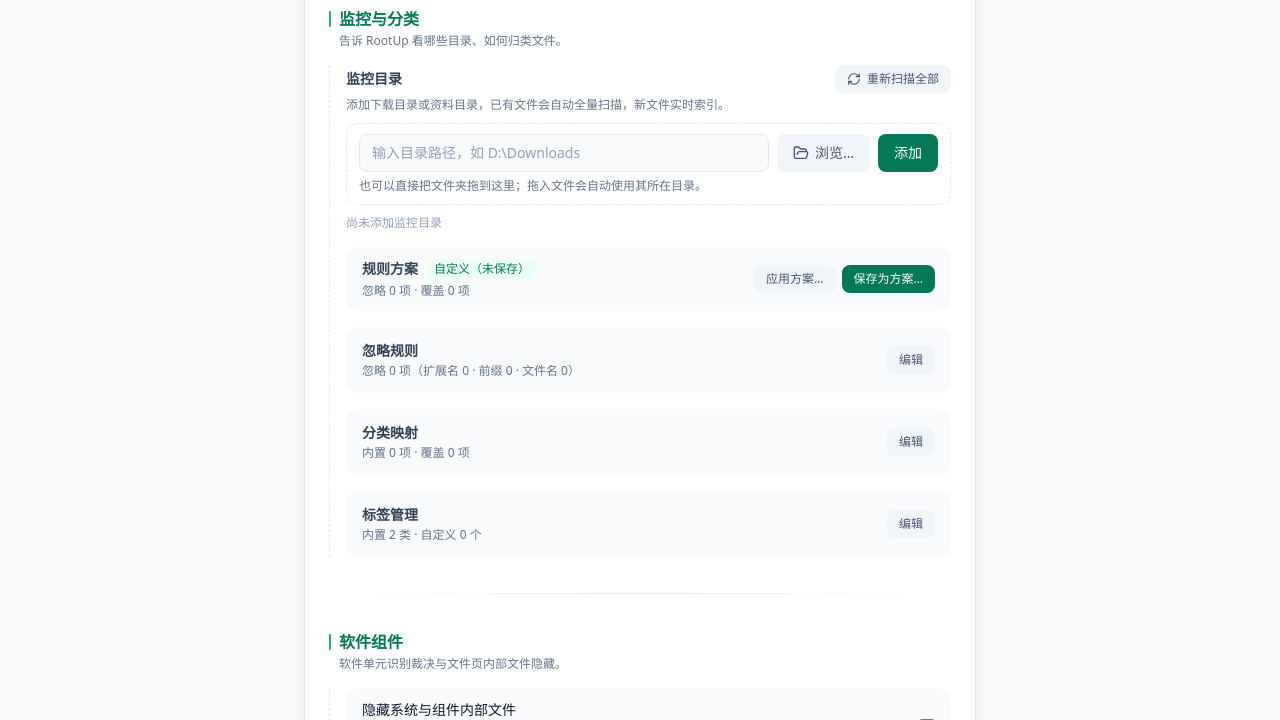
SettingsPage › 忽略规则与分类映射弹窗可开关
(page scrolled)
Click the 1st button "编辑".
click(911, 360)  # box [887,346,935,374]
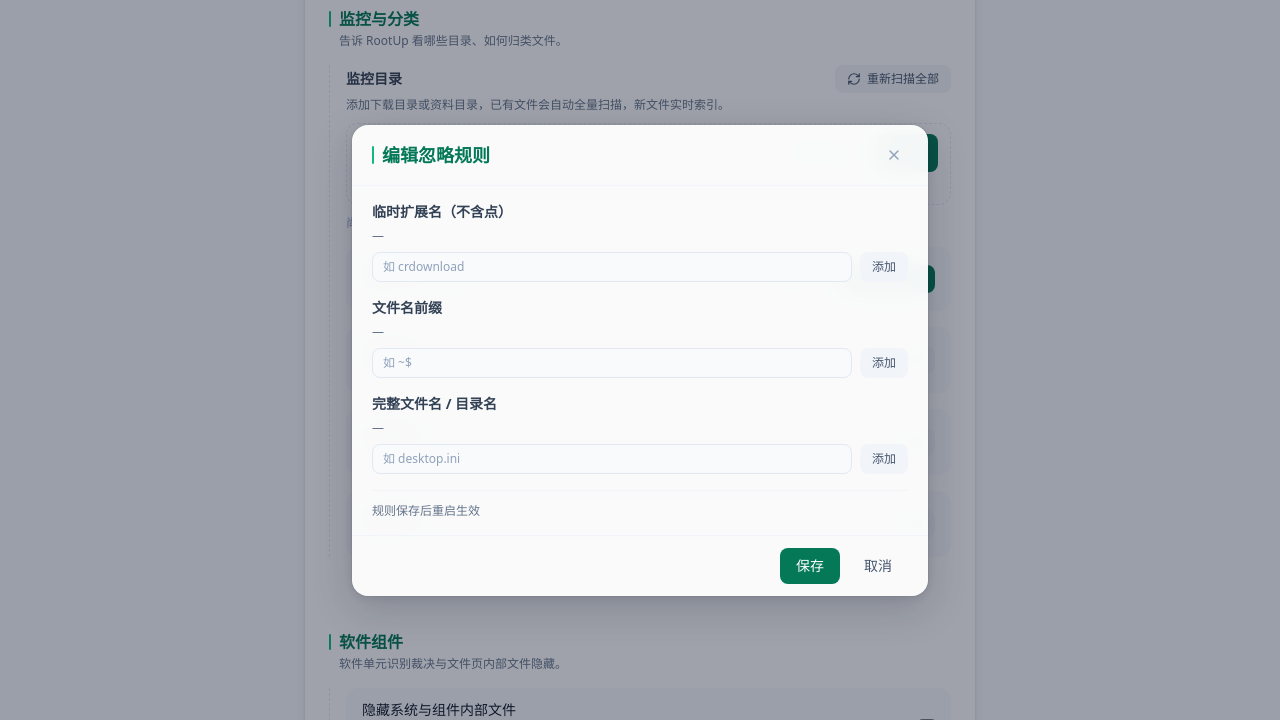
Now the dialog "编辑忽略规则" is shown, box [352,124,928,596]
Click the button named "关闭".
click(894, 154)  # box [880,140,908,168]
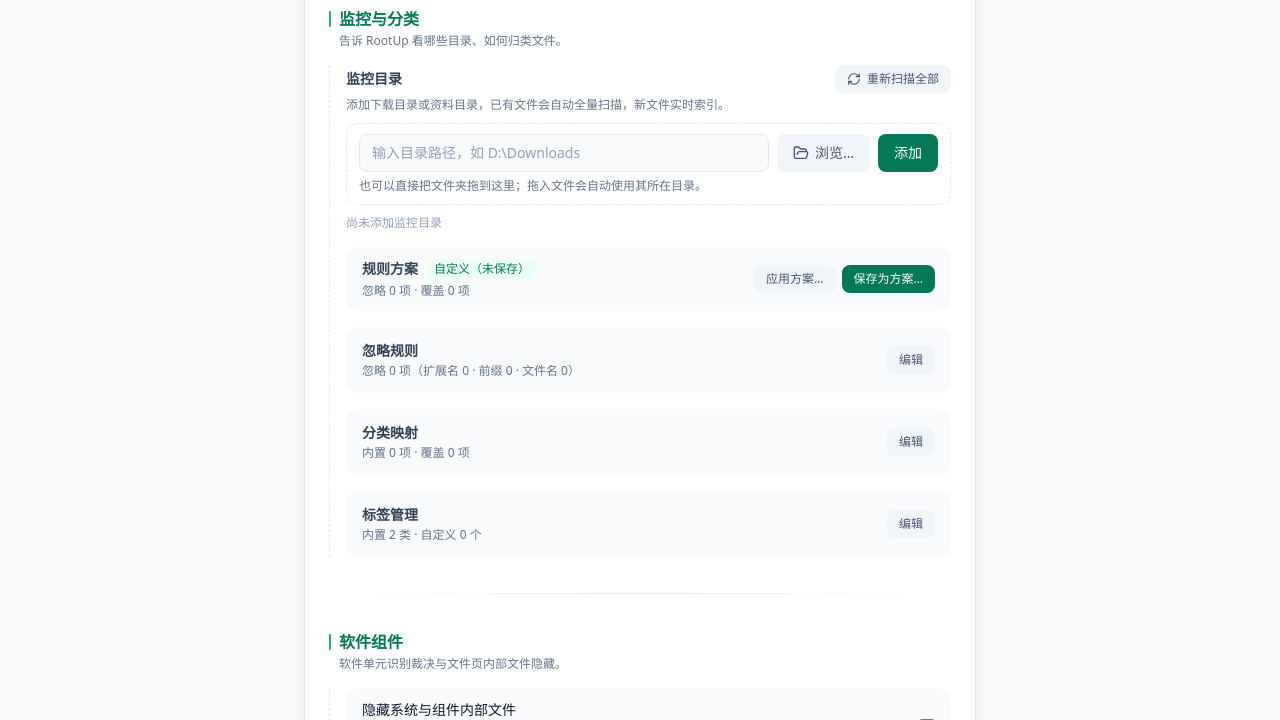
Now the dialog is gone
Click the 2nd button "编辑".
click(911, 442)  # box [887,428,935,456]
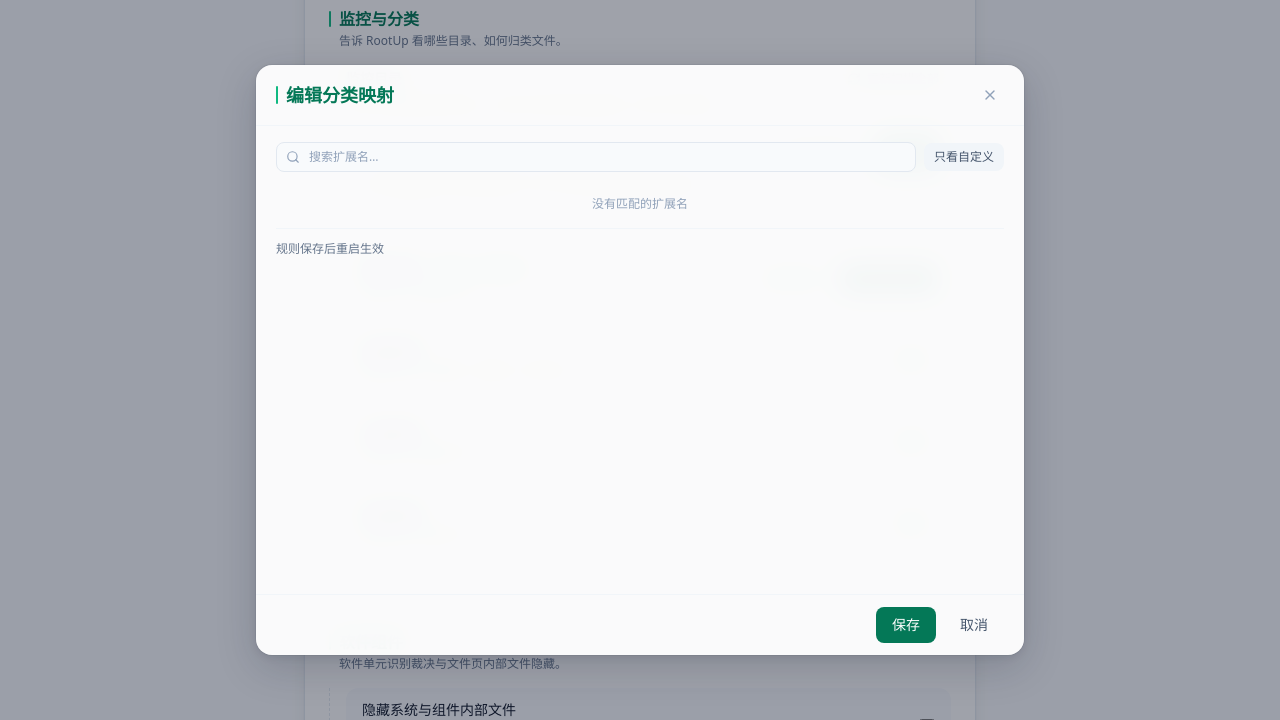
Now the dialog "编辑分类映射" is shown, box [256,65,1024,655]
